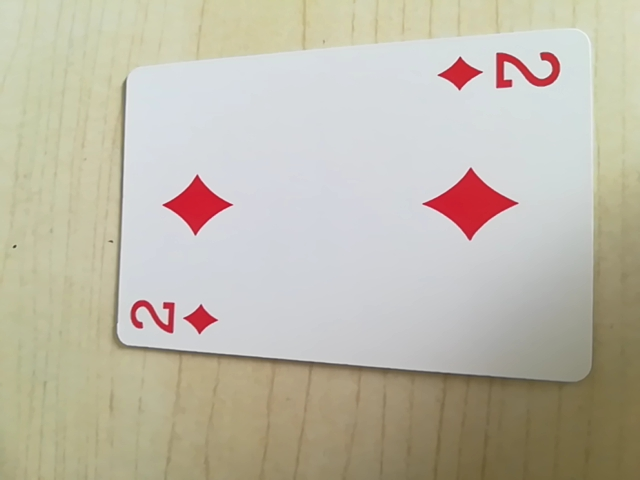fk 2: (438, 44, 565, 101), (126, 289, 226, 345)
